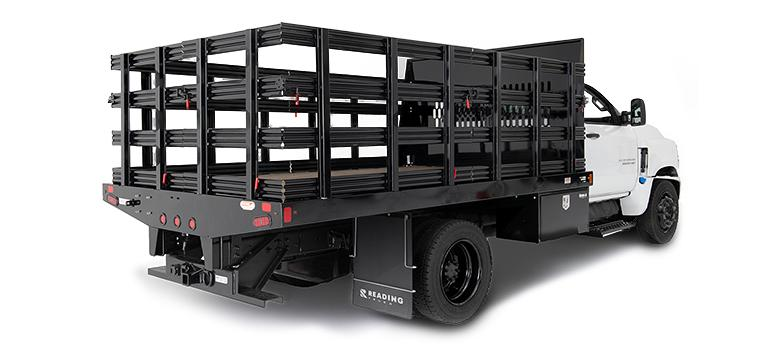truck: (101, 21, 680, 327)
